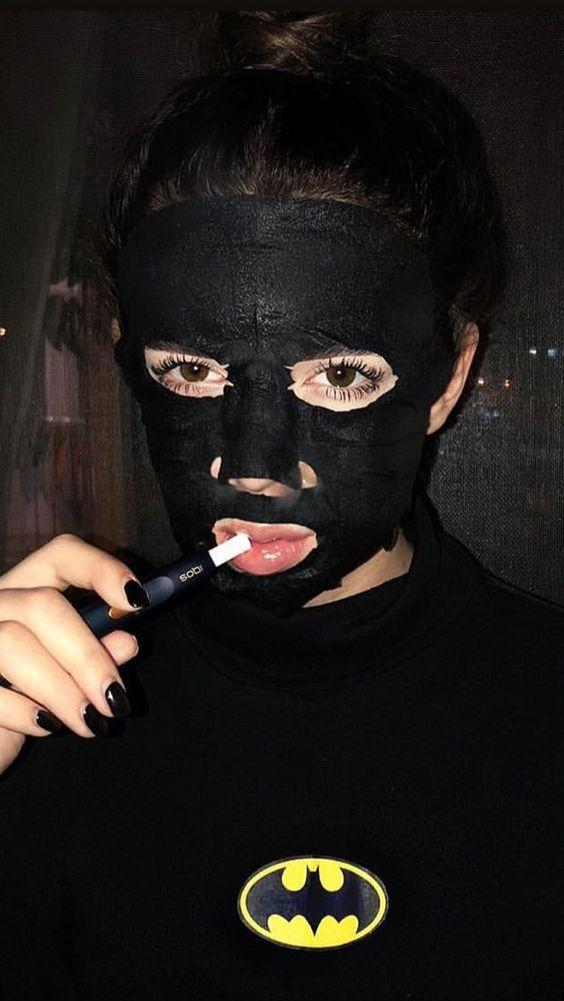iqos: (83, 530, 252, 638)
